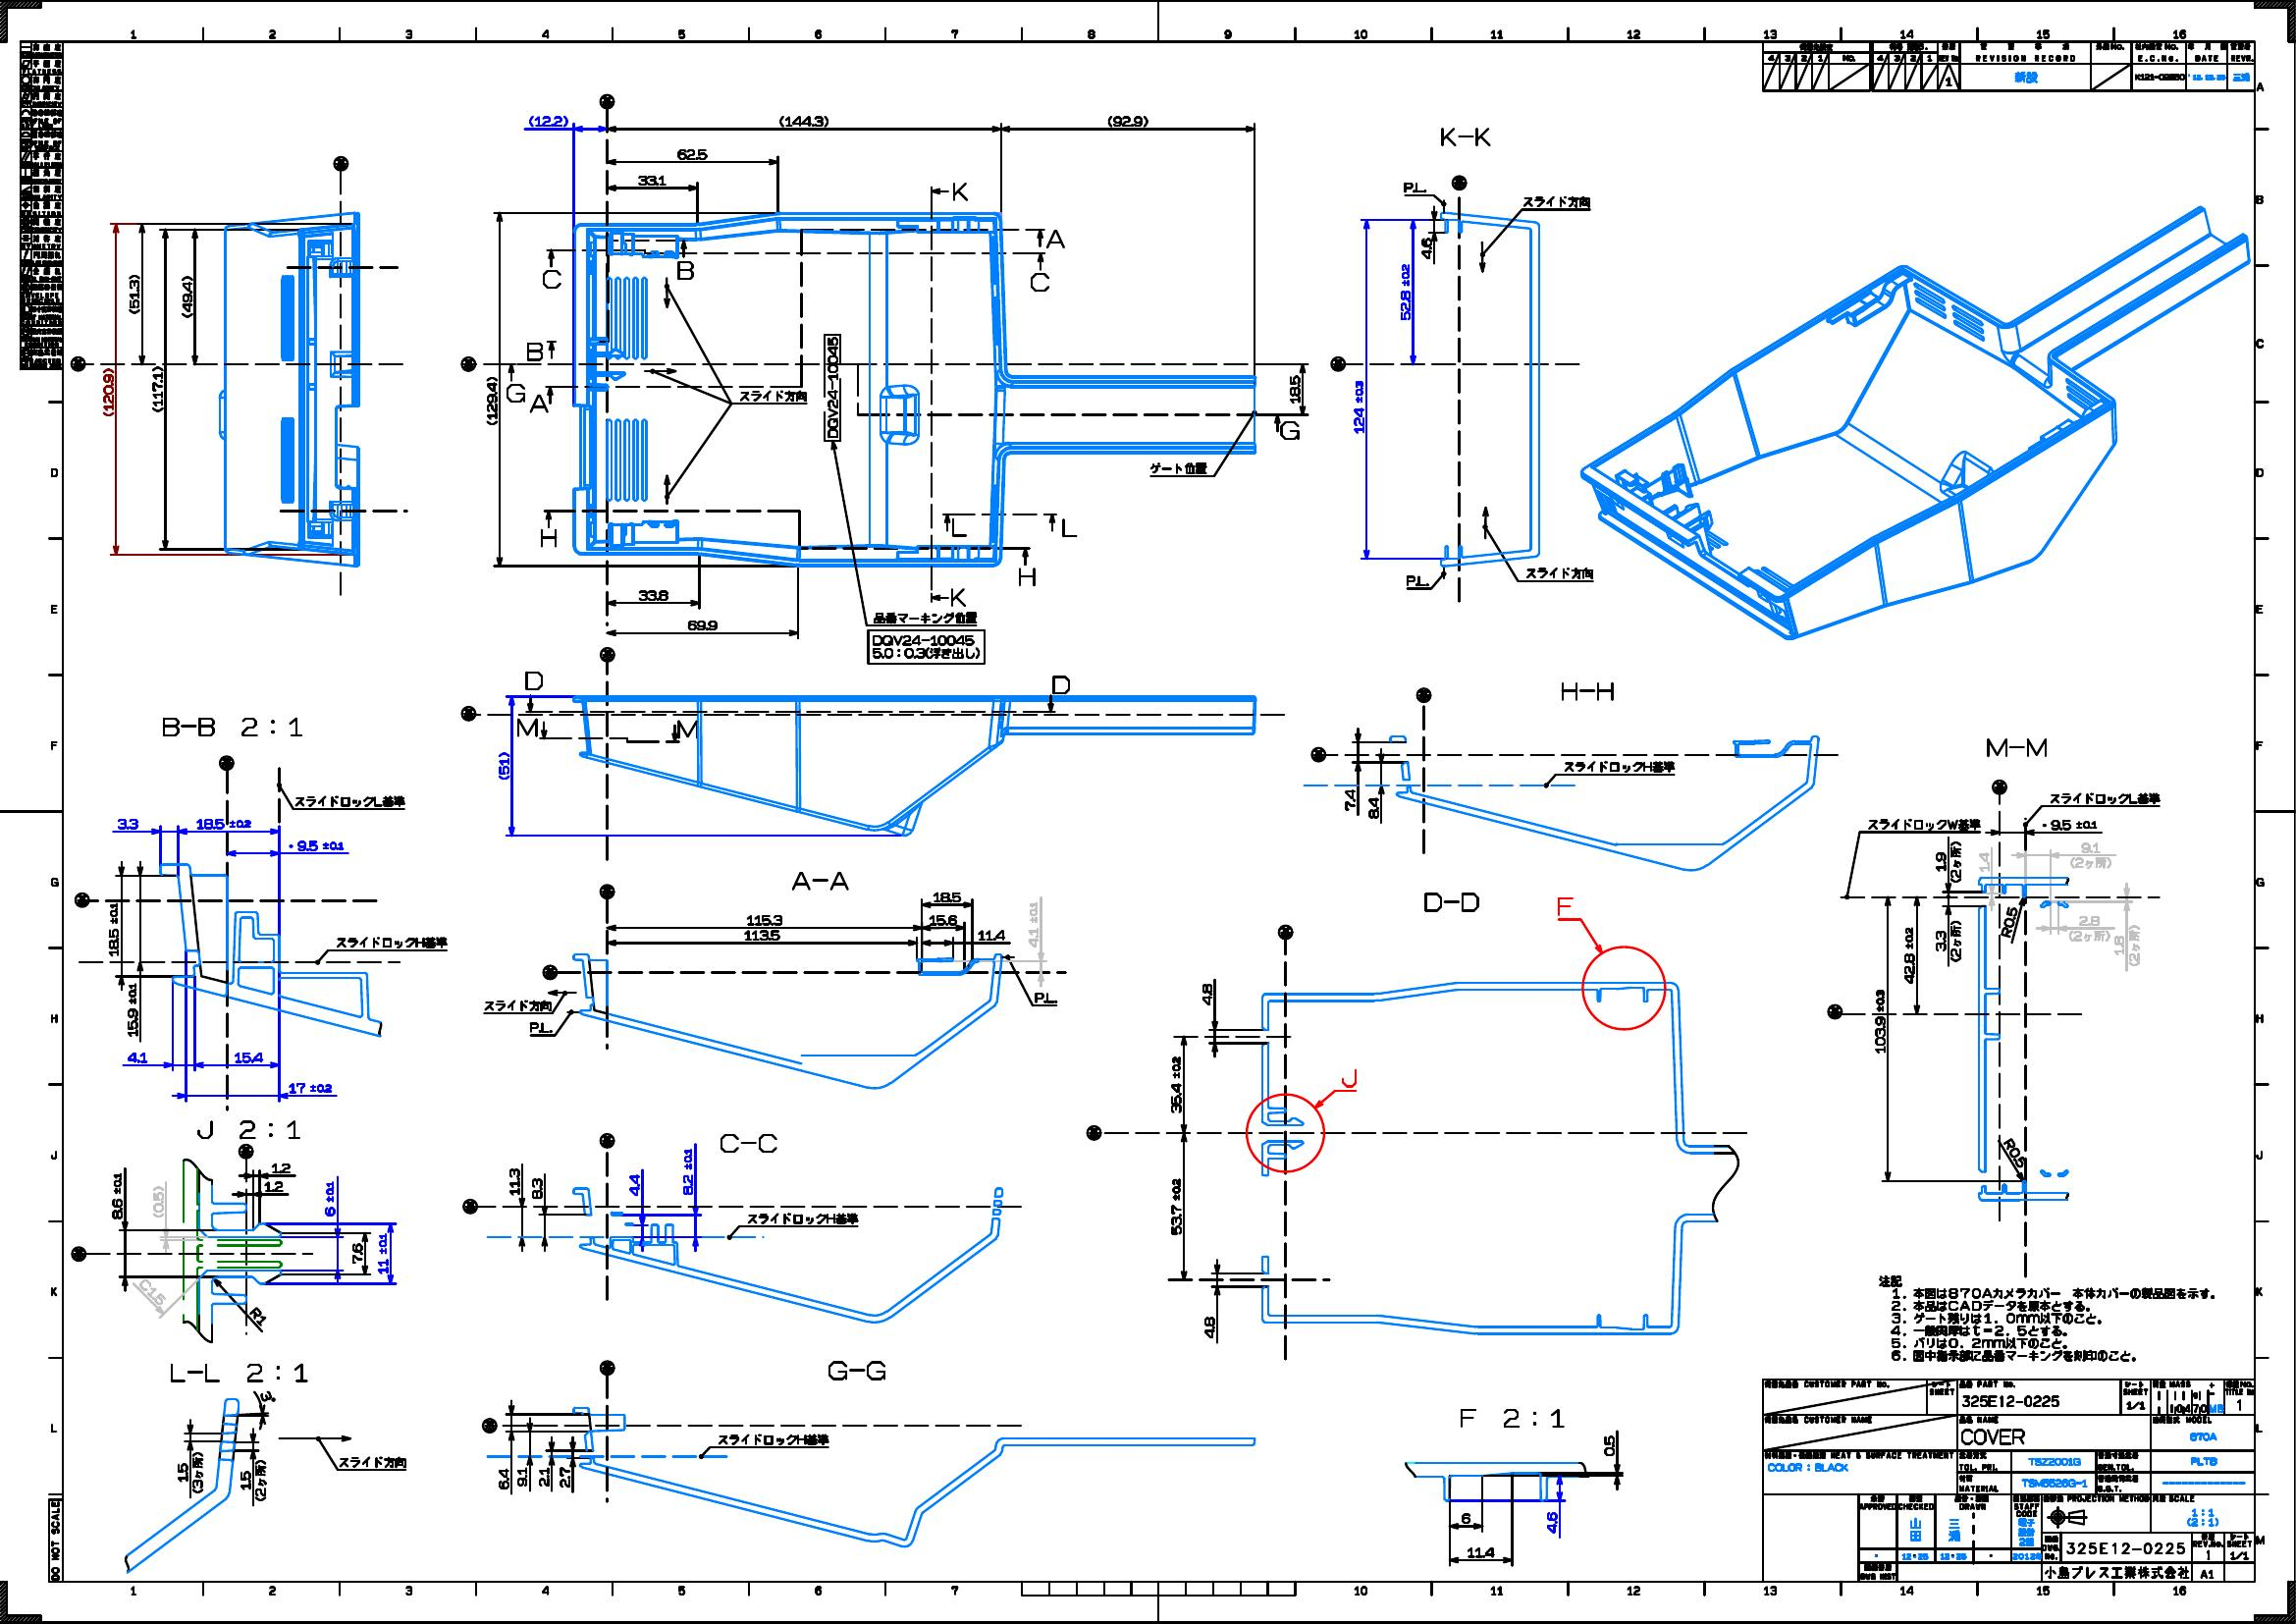anntotation_text: (1876, 1274, 2217, 1366), (866, 629, 986, 664), (165, 1360, 309, 1385), (160, 714, 304, 738), (1456, 1406, 1565, 1429), (197, 1118, 300, 1141), (822, 334, 841, 441), (826, 1355, 887, 1383), (871, 608, 978, 624), (747, 1211, 861, 1225), (717, 1432, 829, 1446), (336, 935, 448, 949), (1563, 759, 1674, 773), (717, 1128, 780, 1153), (2050, 791, 2161, 805), (1983, 735, 2048, 758), (789, 868, 852, 891), (1866, 817, 1982, 830), (1421, 891, 1481, 914), (47, 1497, 63, 1584), (1556, 680, 1616, 701), (1437, 125, 1491, 148), (295, 796, 406, 807), (738, 388, 808, 402), (1525, 566, 1593, 580), (337, 1455, 406, 1468), (1523, 195, 1592, 207), (1149, 460, 1209, 475), (483, 1000, 552, 1011), (1047, 673, 1073, 696), (515, 715, 539, 738), (2127, 923, 2140, 967), (675, 719, 699, 740), (520, 670, 545, 691), (255, 1459, 267, 1501), (2069, 856, 2112, 868), (2068, 930, 2110, 942), (1279, 420, 1300, 441), (1029, 271, 1051, 292), (1045, 228, 1066, 250), (541, 269, 562, 290), (1950, 919, 1960, 961), (1950, 840, 1960, 882), (676, 258, 696, 281), (193, 1452, 204, 1492), (950, 181, 970, 202), (525, 341, 545, 362), (506, 381, 525, 402), (529, 392, 548, 413), (949, 517, 968, 538), (1059, 517, 1079, 538), (1017, 566, 1036, 587), (1556, 895, 1574, 917), (539, 527, 557, 548), (1340, 1067, 1358, 1088), (1405, 573, 1430, 587), (949, 587, 966, 606), (1033, 991, 1058, 1004), (529, 1021, 553, 1033), (1402, 181, 1426, 193)
dimension_text: (1903, 924, 1917, 984), (1873, 986, 1885, 1053), (288, 838, 344, 852), (1351, 380, 1365, 434), (1170, 1053, 1182, 1114), (483, 376, 497, 425), (1398, 264, 1411, 320), (2043, 817, 2097, 830), (126, 982, 139, 1037), (149, 366, 163, 411), (193, 817, 253, 828), (1170, 1176, 1180, 1236), (778, 114, 829, 127), (102, 366, 114, 417), (111, 1171, 123, 1220), (682, 1146, 694, 1195), (109, 902, 119, 958), (288, 1081, 334, 1093), (181, 274, 193, 318), (128, 272, 141, 315), (527, 114, 569, 127), (1107, 114, 1149, 127), (1028, 900, 1038, 947), (323, 1178, 336, 1216), (743, 928, 782, 940), (149, 1185, 163, 1218), (2008, 1135, 2022, 1169), (747, 914, 783, 926), (1465, 1545, 1497, 1559), (378, 1234, 388, 1274), (1288, 374, 1302, 404), (675, 148, 708, 160), (234, 1051, 265, 1063), (137, 1285, 169, 1297), (687, 619, 718, 631), (638, 589, 669, 601), (933, 889, 963, 902), (497, 750, 509, 780), (638, 174, 668, 186), (508, 1167, 520, 1195), (977, 928, 1005, 940), (350, 1241, 364, 1264), (1934, 928, 1946, 953), (557, 1466, 571, 1487), (929, 914, 957, 924), (1342, 789, 1356, 810), (116, 817, 139, 830), (1367, 796, 1379, 819), (2078, 914, 2101, 926), (1546, 1510, 1556, 1536), (1934, 851, 1946, 872), (126, 1051, 148, 1063), (248, 1309, 269, 1322), (271, 1162, 292, 1174), (176, 1462, 188, 1483), (239, 1469, 251, 1490), (497, 1468, 509, 1489), (538, 1466, 550, 1487), (531, 1178, 543, 1199), (629, 1172, 639, 1197), (1200, 982, 1212, 1004), (1203, 1316, 1214, 1341), (1602, 1434, 1614, 1455), (2080, 842, 2101, 854), (1978, 851, 1990, 872), (1421, 237, 1432, 260), (264, 1179, 283, 1192), (516, 1468, 527, 1487), (2113, 935, 2124, 954), (260, 1390, 274, 1403), (1460, 1512, 1470, 1524)
object: (1579, 206, 2250, 640), (571, 213, 1256, 568), (1263, 982, 1739, 1336), (573, 1406, 1256, 1547), (573, 696, 1256, 835), (1390, 735, 1820, 872), (573, 953, 1003, 1090), (573, 1186, 1003, 1323), (218, 211, 360, 566), (160, 863, 381, 1037), (1440, 211, 1539, 566), (1978, 877, 2069, 1202), (125, 1399, 239, 1573), (181, 1158, 283, 1343), (1404, 1461, 1586, 1501)
title_block: (1760, 1378, 2256, 1580), (1760, 40, 2256, 90), (19, 39, 63, 371)
